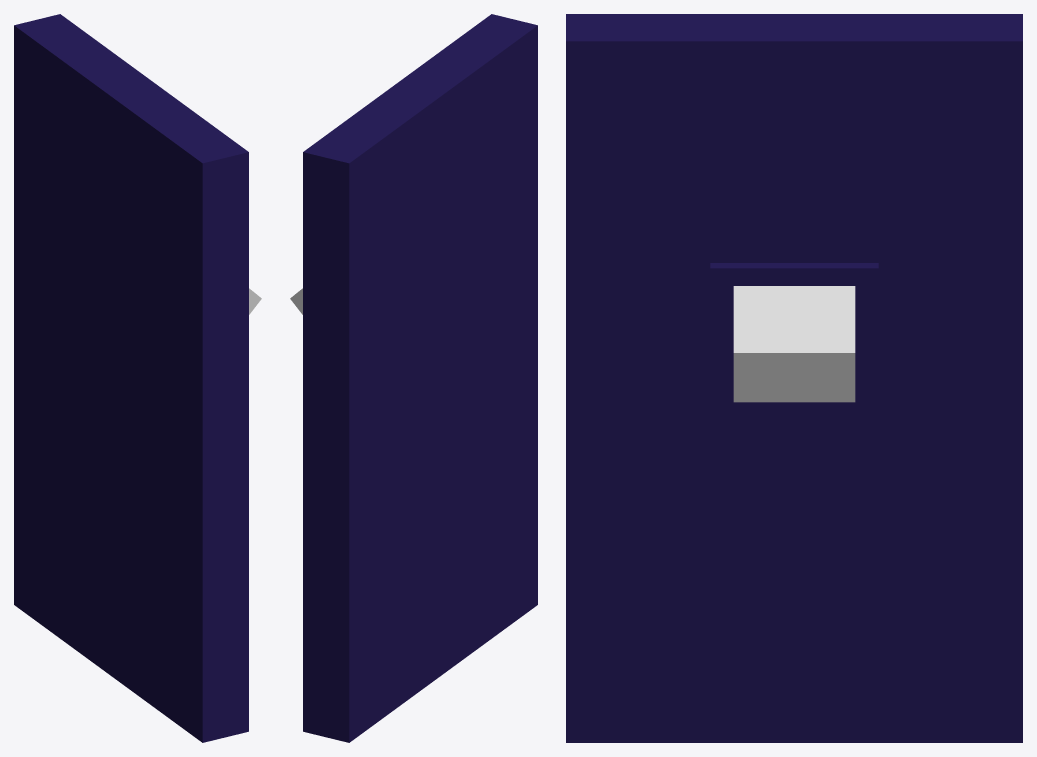
Rendered from light_switcher.glb.
3 views of the same model, side by side, from view 1: azimuth 30°, elevation 25°; view 2: azimuth 150°, elevation 25°; view 3: azimuth 270°, elevation 25° (orthographic). The views are drawn at different scales.
Parts seen in each view (by area): view 1: pad; view 2: pad; view 3: pad, sub_pad, lever.
Boxes of the visible parts, box(x1,y1,x2,y2) form: pad: box(14, 14, 248, 742); pad: box(303, 14, 537, 742); pad: box(566, 14, 1022, 742); sub_pad: box(710, 263, 878, 526); lever: box(733, 286, 855, 402).
Bounding box in the file's own units: 0.4644 × 2 × 1.18.
